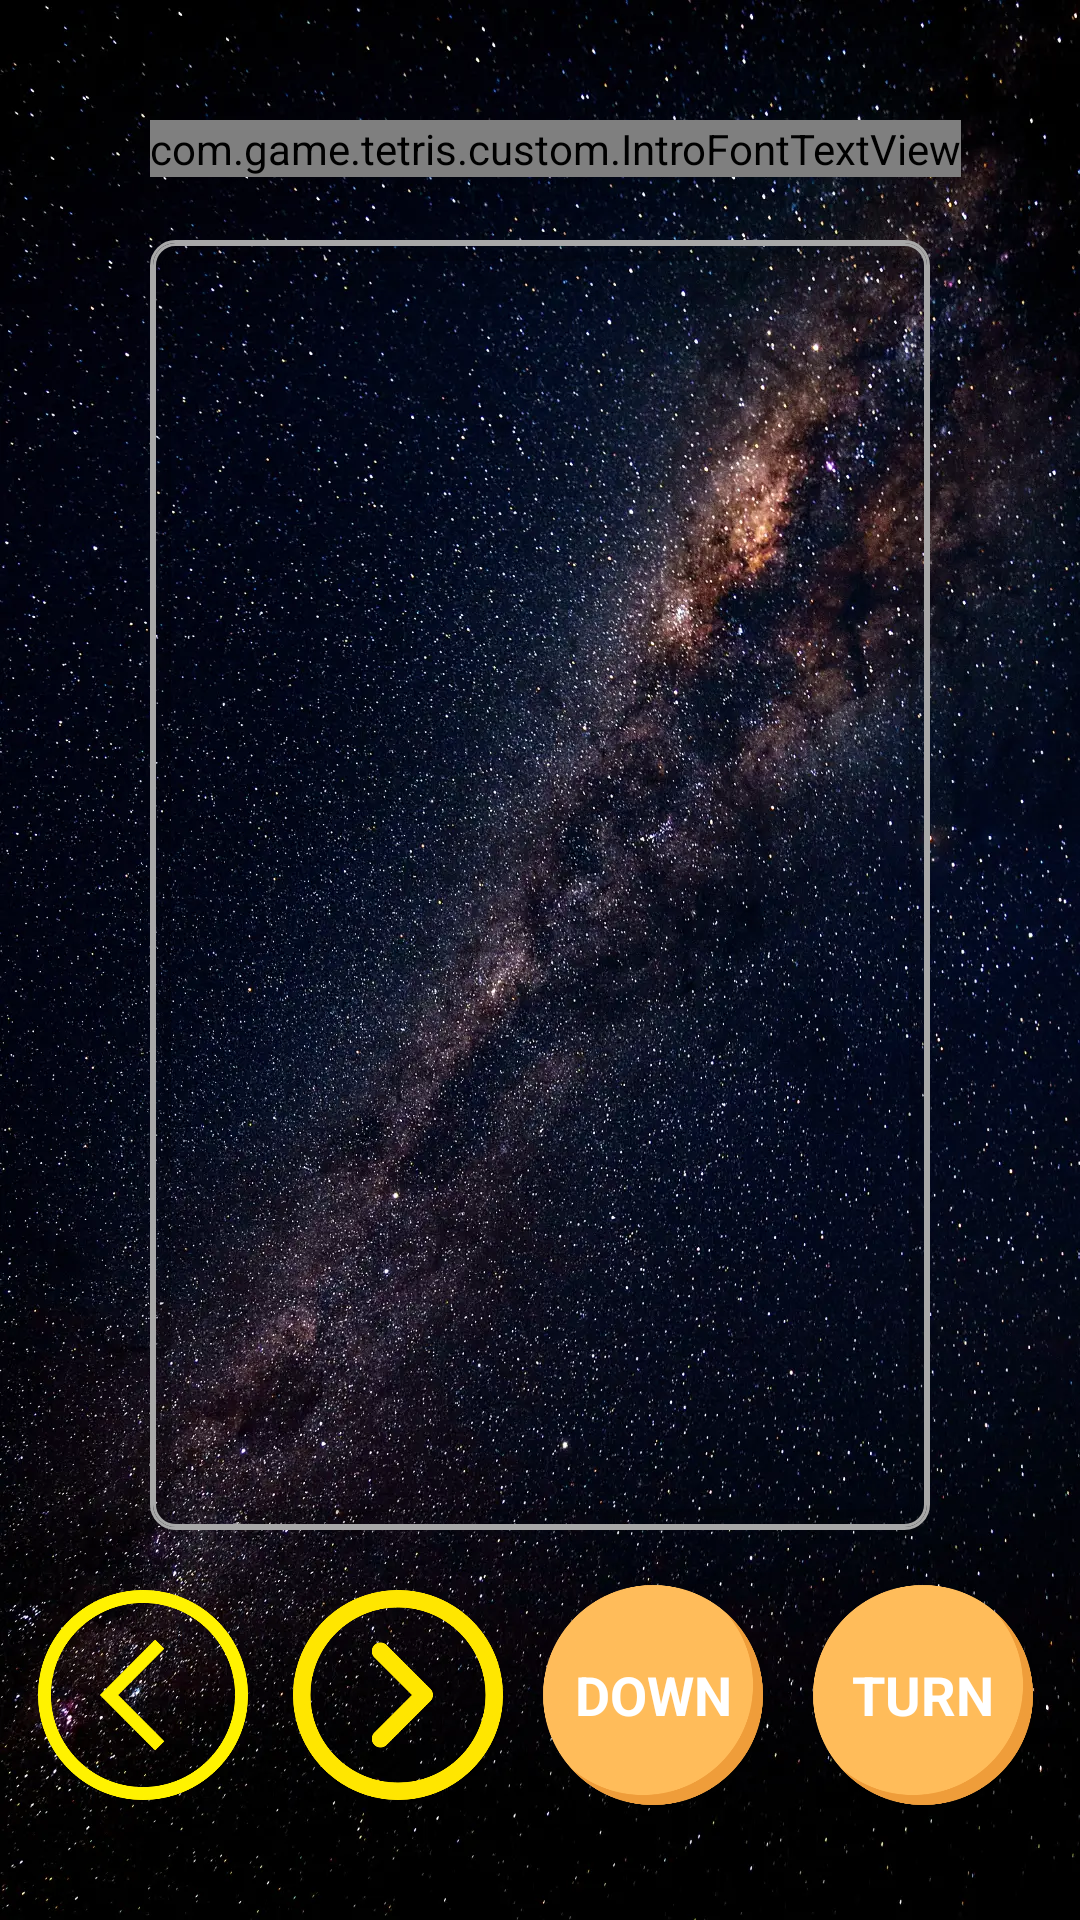

Locate icon controls on the screen. Image size 1080 x 1920, boxes as (x1, y1, x2, y2).
left: (38, 1590, 248, 1800)
right: (293, 1590, 503, 1800)
